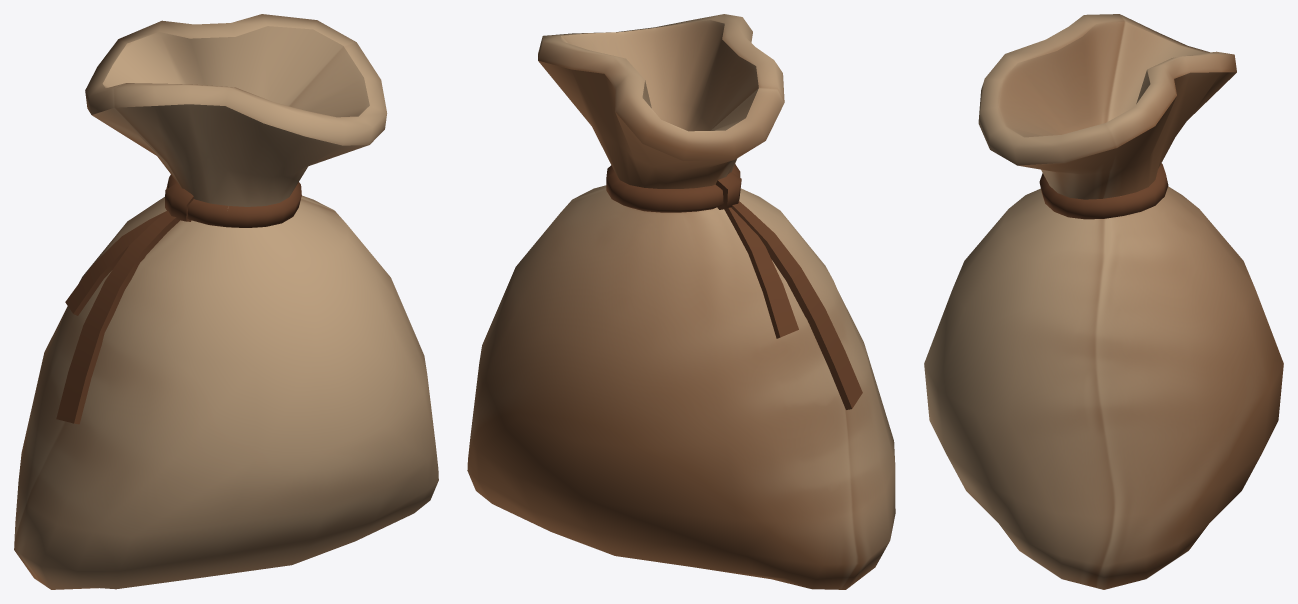
Rendered from Sack.FBX.
3 views of the same model, side by side, from view 1: azimuth 30°, elevation 25°; view 2: azimuth 150°, elevation 25°; view 3: azimuth 270°, elevation 25° (orthographic). The views are drawn at different scales.
Visible parts, largest first — view 1: Sack; view 2: Sack; view 3: Sack.
Part boxes in pixels (left/top/right/bottom): Sack: left=14, top=14, right=438, bottom=589; Sack: left=467, top=14, right=895, bottom=589; Sack: left=924, top=14, right=1283, bottom=589.
Bounding box in the file's own units: 142 × 169 × 118.
Materials: 1 (1 with a texture image).
